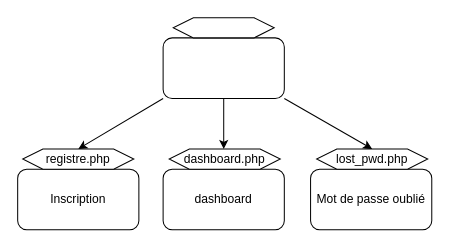
This 449x247 diagram has some shape labels left out. The centre of each missing label's shape, as x and y in pixels:
"Connexion" goes at (x=223, y=67).
"index.php" goes at (x=223, y=27).
